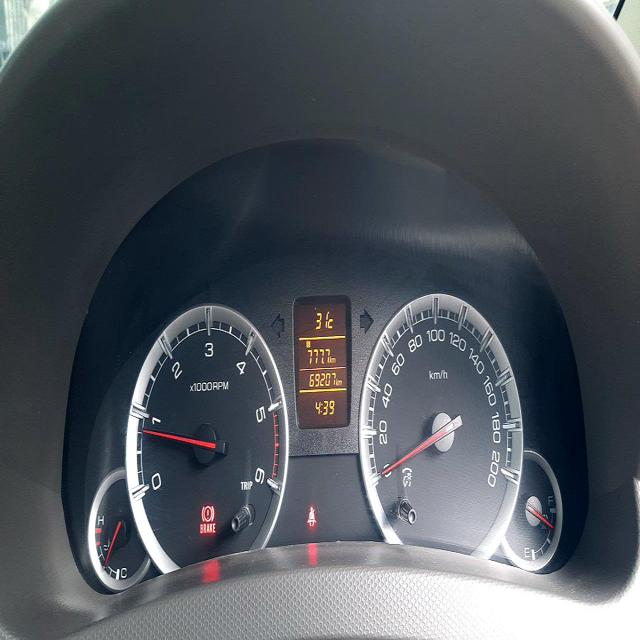odometer: (304, 369, 336, 392)
